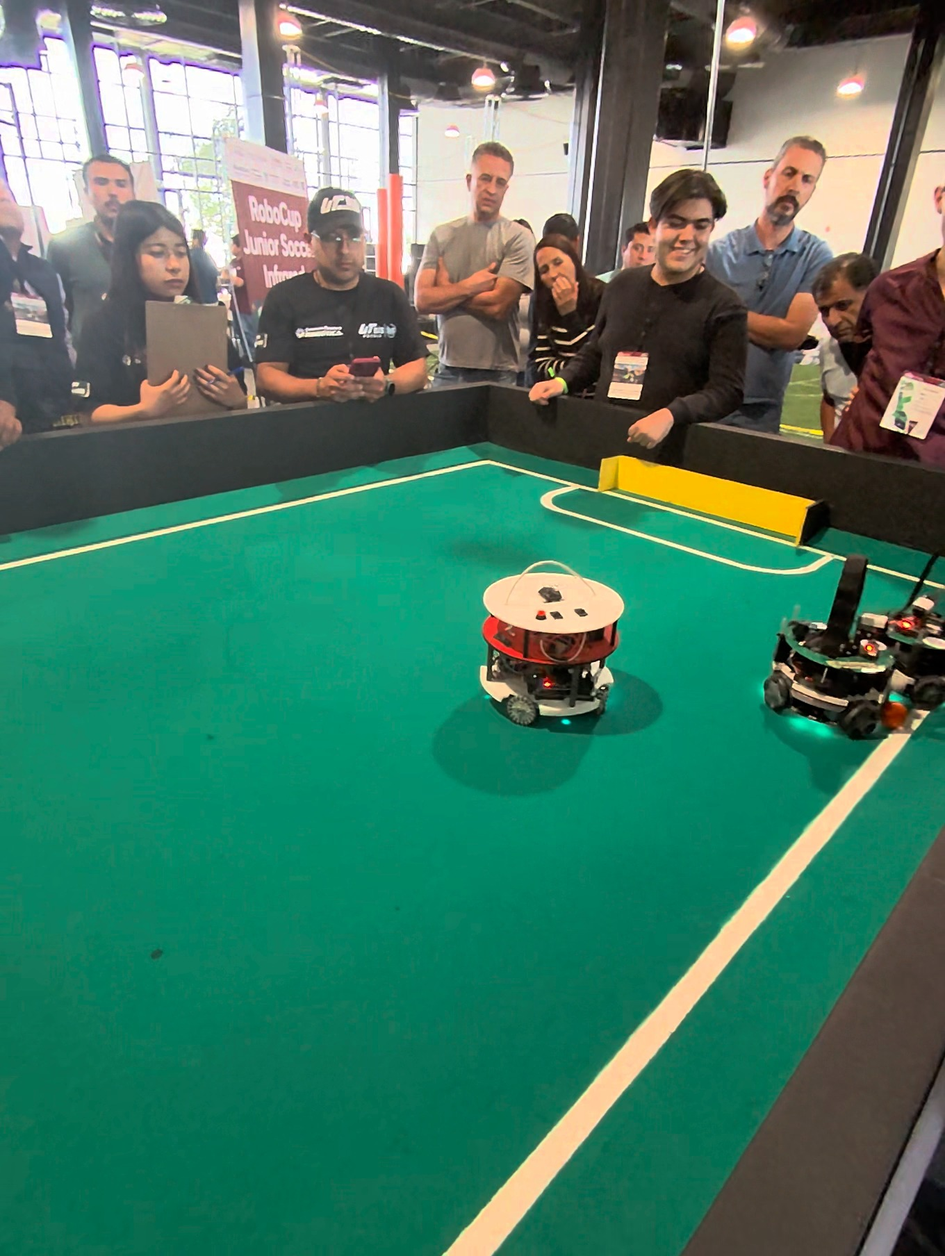Robot: (473, 544, 648, 746), (764, 548, 889, 753), (888, 537, 945, 719)
